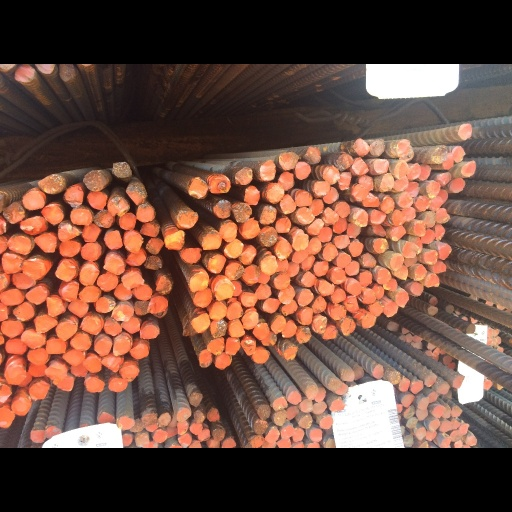dipstick: (83, 141, 107, 170), (39, 146, 64, 173), (20, 203, 47, 227), (126, 158, 147, 188), (58, 210, 82, 236), (22, 354, 46, 379), (8, 228, 31, 254), (23, 260, 45, 287), (3, 184, 24, 212), (55, 262, 76, 290), (79, 267, 99, 296), (12, 276, 36, 300), (34, 227, 57, 252), (107, 177, 129, 203), (22, 168, 44, 194), (124, 222, 143, 252), (188, 150, 208, 178), (64, 162, 83, 191), (2, 251, 22, 278), (164, 221, 184, 248), (191, 331, 210, 359), (241, 205, 260, 233), (34, 336, 57, 359), (176, 195, 198, 219), (13, 317, 34, 342), (80, 336, 101, 361), (43, 188, 63, 214), (214, 290, 234, 316), (15, 0, 34, 27), (47, 310, 66, 337), (69, 192, 92, 214), (103, 257, 125, 280), (80, 238, 101, 262), (25, 296, 46, 320), (70, 358, 91, 382), (219, 210, 237, 238), (104, 222, 123, 248), (0, 300, 22, 322), (111, 320, 133, 342), (121, 276, 143, 298), (1, 342, 22, 365), (147, 309, 168, 332), (87, 170, 107, 194), (93, 194, 113, 218), (97, 279, 117, 303), (210, 148, 230, 172), (267, 158, 284, 186), (136, 187, 155, 212), (60, 290, 79, 315), (189, 277, 208, 302), (292, 220, 308, 249), (59, 236, 80, 258), (95, 311, 116, 333), (27, 378, 48, 400), (68, 315, 88, 338), (132, 293, 152, 316), (29, 424, 49, 447), (260, 216, 277, 243), (232, 186, 251, 210), (213, 180, 231, 205), (208, 254, 226, 279), (193, 300, 211, 325), (224, 234, 242, 259), (259, 128, 275, 156), (260, 255, 277, 281), (259, 188, 276, 214), (5, 366, 26, 387), (180, 244, 201, 265), (126, 248, 146, 270), (119, 402, 139, 424), (201, 226, 221, 248), (57, 344, 76, 367), (6, 404, 25, 427), (279, 117, 298, 140), (225, 264, 243, 288), (276, 234, 292, 261), (83, 213, 100, 238), (113, 365, 130, 390), (235, 136, 252, 161), (210, 340, 227, 365), (228, 340, 245, 365), (243, 268, 260, 293), (353, 99, 370, 124), (63, 382, 84, 402), (112, 130, 131, 152), (79, 296, 98, 318), (47, 400, 66, 422), (280, 174, 296, 200), (323, 134, 339, 160), (207, 365, 225, 388), (119, 198, 136, 222), (209, 317, 226, 341), (0, 458, 15, 485), (140, 211, 160, 231), (102, 390, 122, 410), (295, 130, 311, 155), (353, 124, 369, 149), (121, 338, 140, 359), (146, 232, 164, 254), (12, 446, 30, 468), (296, 190, 314, 212), (104, 339, 121, 362), (95, 365, 112, 388), (336, 119, 353, 142), (244, 162, 259, 188), (242, 330, 258, 354), (240, 244, 256, 268), (278, 144, 294, 168), (305, 110, 321, 134), (46, 366, 65, 386), (156, 282, 171, 307), (84, 390, 101, 412), (226, 318, 243, 340), (115, 292, 131, 315), (274, 277, 290, 300), (322, 239, 338, 262), (131, 372, 149, 392), (86, 418, 104, 438), (312, 309, 327, 333), (323, 190, 338, 214), (278, 298, 295, 319), (215, 385, 231, 407), (297, 326, 313, 348), (352, 160, 368, 182), (330, 272, 346, 294), (380, 145, 394, 170), (396, 99, 410, 124), (254, 345, 269, 368), (370, 99, 385, 122), (361, 330, 376, 353), (140, 348, 159, 366), (56, 416, 73, 436), (263, 312, 280, 332), (317, 288, 334, 308), (281, 315, 297, 336), (297, 301, 313, 322), (358, 148, 374, 169), (394, 130, 408, 154), (432, 108, 446, 132), (188, 436, 203, 458), (225, 366, 240, 388), (270, 336, 285, 358), (335, 183, 350, 205), (324, 164, 339, 186), (391, 215, 406, 237), (408, 131, 421, 156), (145, 256, 162, 275), (28, 400, 47, 417), (329, 445, 346, 464), (341, 339, 355, 362), (426, 154, 440, 177), (241, 304, 257, 324), (275, 205, 291, 225), (296, 170, 312, 190), (370, 193, 386, 213), (330, 321, 346, 341), (372, 232, 388, 252), (415, 176, 431, 196), (256, 292, 271, 313), (312, 337, 327, 358), (301, 276, 316, 297), (420, 219, 435, 240), (398, 170, 413, 191), (450, 151, 465, 172), (339, 143, 351, 169), (346, 308, 359, 332), (314, 262, 328, 284), (308, 232, 322, 254), (333, 205, 347, 227), (354, 194, 368, 216), (380, 178, 394, 200), (392, 194, 406, 216), (451, 109, 465, 131), (252, 381, 269, 399), (313, 156, 330, 174), (118, 468, 134, 487), (334, 227, 350, 246), (199, 379, 211, 404), (241, 368, 256, 388), (272, 443, 287, 463), (298, 466, 313, 486), (414, 267, 427, 290), (297, 351, 311, 372), (318, 217, 332, 238), (369, 316, 383, 337), (253, 473, 267, 494), (436, 191, 450, 212), (458, 79, 472, 100), (461, 129, 475, 150), (292, 248, 308, 266), (395, 302, 407, 326), (403, 236, 416, 258), (322, 349, 337, 368), (373, 127, 388, 146), (392, 269, 407, 288), (424, 279, 439, 298), (133, 315, 147, 335), (347, 212, 361, 232), (349, 237, 363, 257), (345, 262, 359, 282), (362, 252, 376, 272), (377, 273, 391, 293), (384, 318, 398, 338), (257, 453, 271, 473), (273, 462, 287, 482), (311, 180, 323, 203), (359, 277, 372, 298), (390, 253, 403, 274), (438, 240, 451, 261), (71, 400, 87, 417), (30, 488, 46, 505), (261, 358, 276, 376), (282, 346, 297, 364), (336, 254, 351, 272), (393, 152, 408, 170), (436, 144, 451, 162), (177, 458, 191, 477), (332, 300, 346, 319), (347, 289, 361, 308), (410, 290, 424, 309), (423, 248, 437, 267), (302, 254, 314, 276), (372, 292, 384, 314), (363, 300, 376, 320), (429, 176, 442, 196), (363, 174, 379, 190), (312, 450, 327, 467), (283, 376, 297, 394), (250, 494, 264, 512), (265, 486, 279, 504), (280, 482, 294, 500), (287, 436, 301, 454), (309, 486, 323, 504), (401, 190, 415, 208), (419, 134, 431, 155), (414, 208, 425, 230), (424, 196, 435, 218), (371, 214, 386, 230), (292, 484, 304, 504), (382, 287, 397, 303), (340, 407, 354, 424), (320, 469, 333, 487), (300, 446, 313, 464), (424, 413, 437, 431), (432, 454, 445, 472), (433, 262, 446, 280), (372, 400, 383, 421), (434, 214, 445, 235), (408, 156, 419, 177), (412, 230, 422, 253), (305, 428, 317, 447), (352, 402, 364, 421), (142, 466, 157, 481), (334, 426, 348, 442), (153, 487, 166, 504), (178, 494, 191, 511), (197, 486, 210, 503), (410, 422, 423, 439), (443, 118, 453, 140), (207, 458, 219, 476), (403, 454, 415, 472), (232, 289, 242, 310), (315, 432, 326, 451), (398, 418, 409, 437), (189, 478, 202, 494), (158, 466, 171, 482), (212, 486, 225, 502), (287, 456, 299, 473), (453, 415, 465, 432), (416, 459, 428, 476), (177, 476, 188, 494), (401, 440, 413, 456), (406, 470, 418, 486), (389, 410, 400, 427), (428, 472, 439, 489), (403, 256, 417, 269), (437, 425, 449, 440), (427, 437, 439, 452), (440, 476, 452, 491), (417, 444, 428, 460), (451, 455, 462, 471), (194, 461, 204, 478), (416, 484, 425, 502), (426, 488, 437, 502), (466, 495, 477, 508), (403, 494, 413, 508), (483, 421, 492, 436)
